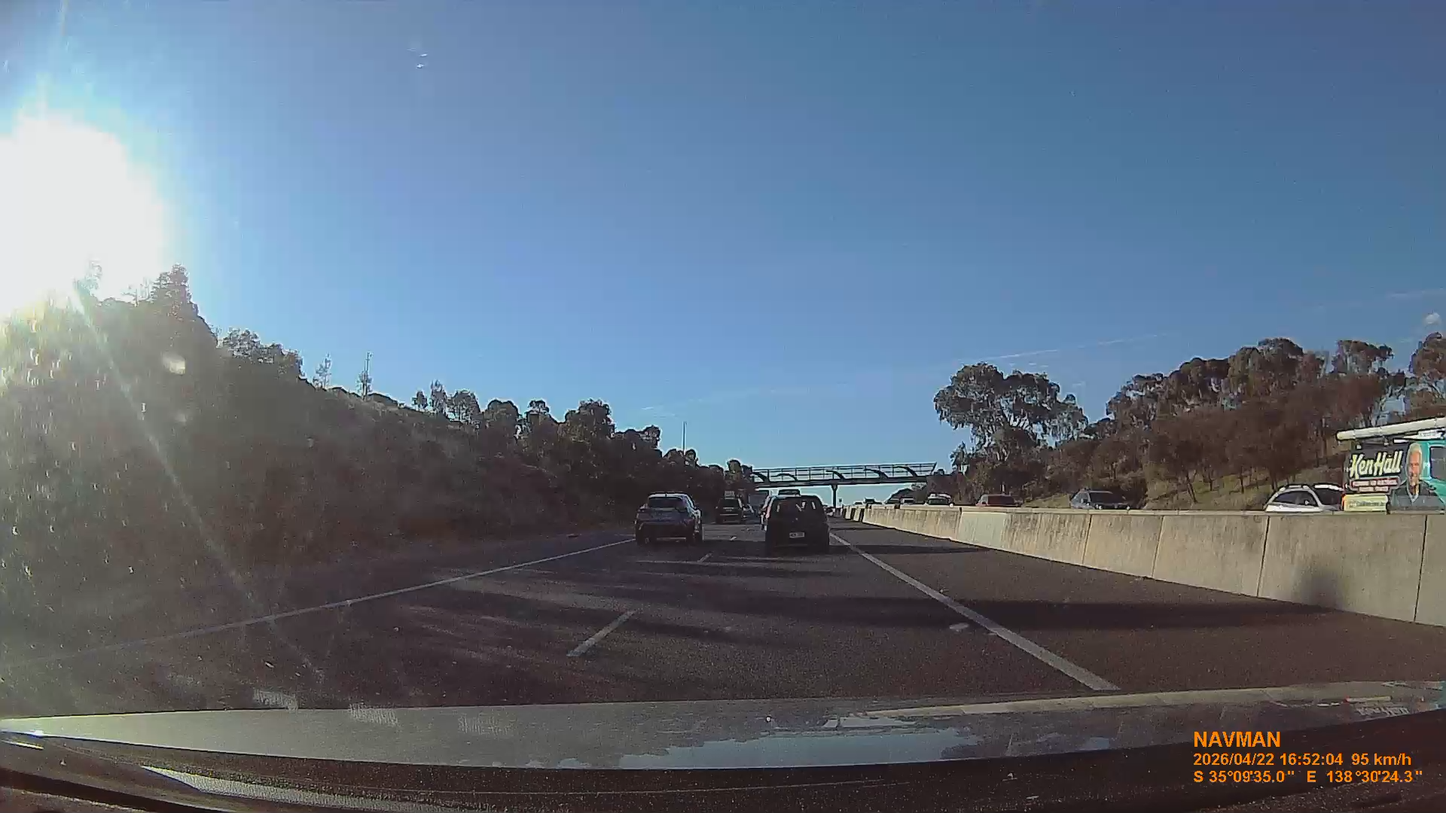road barriers: (847, 507, 1445, 625)
